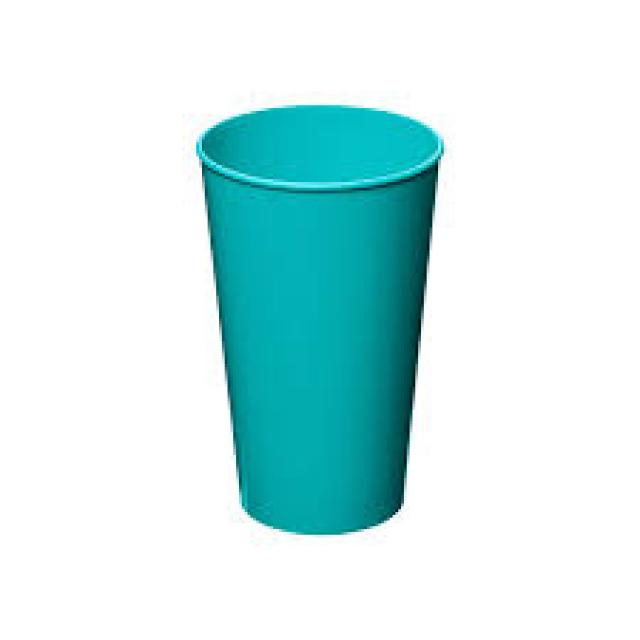cup: (178, 74, 467, 549)
